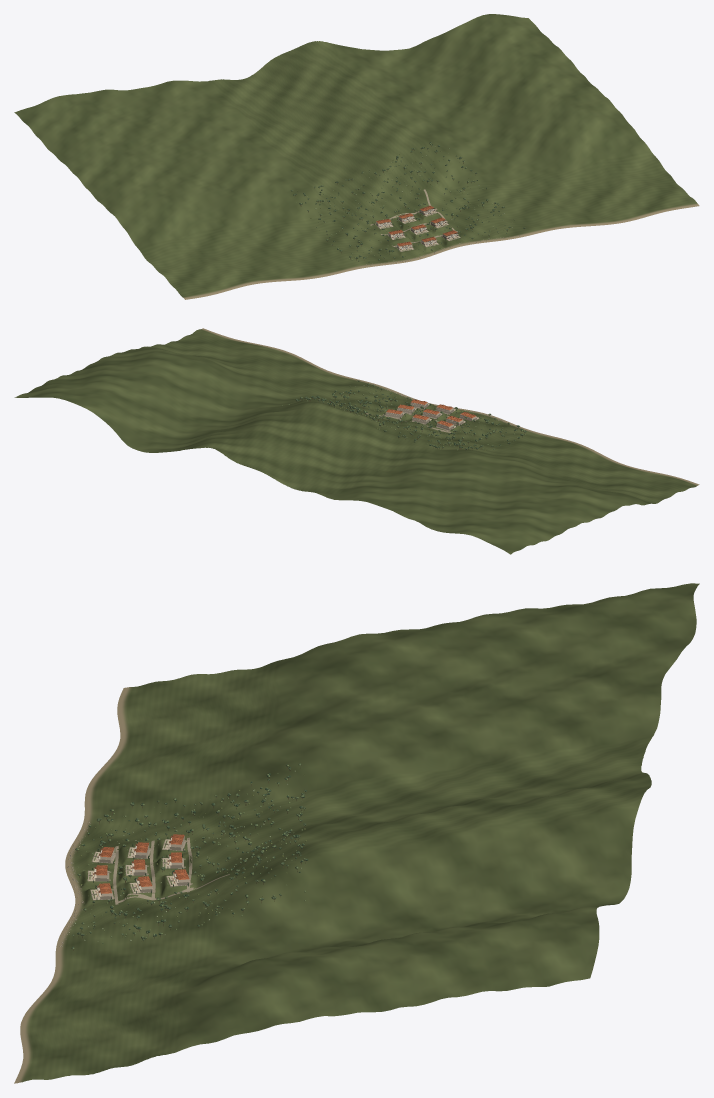
Rendered from elba-coast.glb.
3 views of the same model, one above another, from view 1: azimuth 30°, elevation 25°; view 2: azimuth 150°, elevation 25°; view 3: azimuth 270°, elevation 25° (orthographic). The views are drawn at different scales.
Visible parts, largest first — view 1: Costa e pendii, Macchia mediterranea; view 2: Costa e pendii, Macchia mediterranea; view 3: Costa e pendii, Macchia mediterranea, Accessi in ghiaia.
Boxes of the visible parts, x1,y1,x2,y2 form: Costa e pendii: [14, 14, 699, 299]; Macchia mediterranea: [291, 142, 525, 266]; Costa e pendii: [14, 328, 699, 554]; Macchia mediterranea: [281, 380, 528, 451]; Costa e pendii: [14, 583, 699, 1083]; Macchia mediterranea: [59, 763, 307, 950]; Accessi in ghiaia: [113, 837, 229, 904].
Size of what is drawn, in the model's own units: 1016 by 153 by 744.
